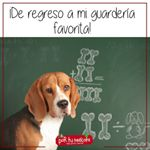puppy: (1, 69, 82, 150)
